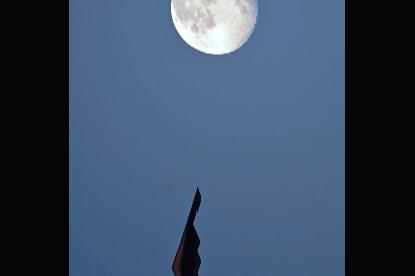B1: (172, 185, 204, 273)
